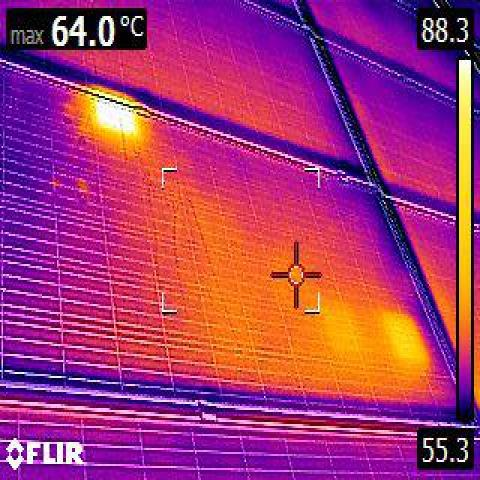fault: (393, 313, 422, 362), (98, 100, 138, 134)
